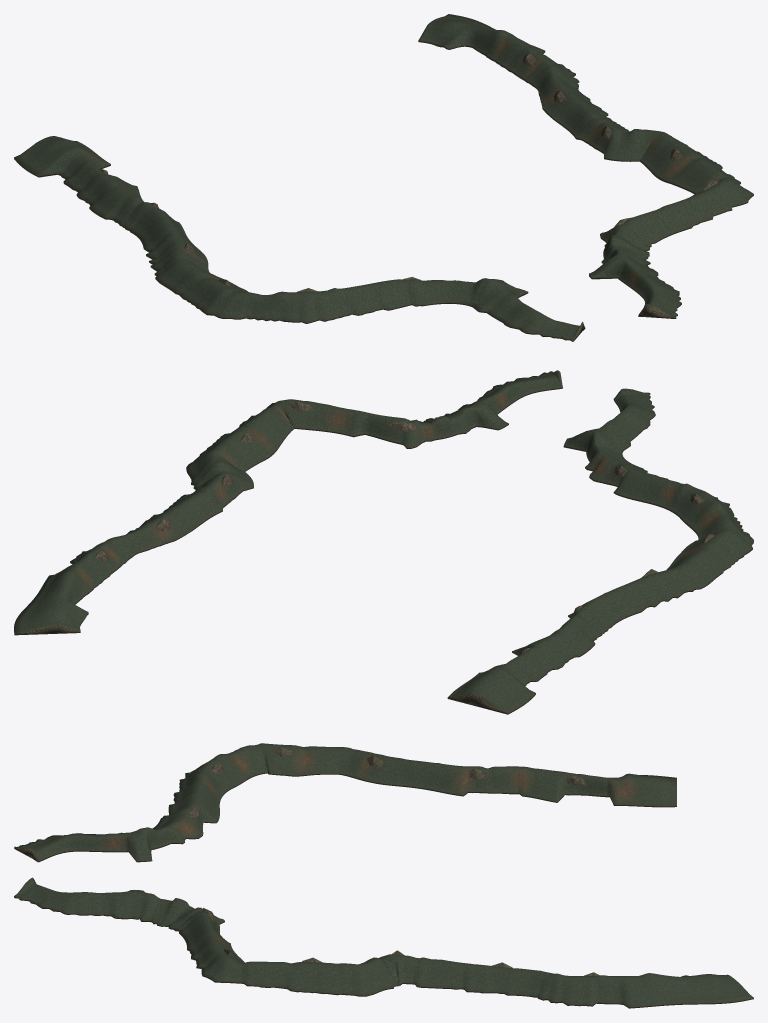
File: level_camp_banks_green.glb
The picture shows the model from 3 angles, top to bottom: view 1: azimuth 30°, elevation 25°; view 2: azimuth 150°, elevation 25°; view 3: azimuth 270°, elevation 25°; orthographic projection. The views are drawn at different scales.
Visible parts, largest first — view 1: level_camp_banks_green; view 2: level_camp_banks_green; view 3: level_camp_banks_green.
Boxes of the visible parts, <box> form: level_camp_banks_green: <box>14,14,753,341</box>; level_camp_banks_green: <box>14,370,753,714</box>; level_camp_banks_green: <box>14,743,753,1008</box>.
Size of the model in its own units: 65.85 by 5.16 by 83.79.
6 materials, 6 textured.
